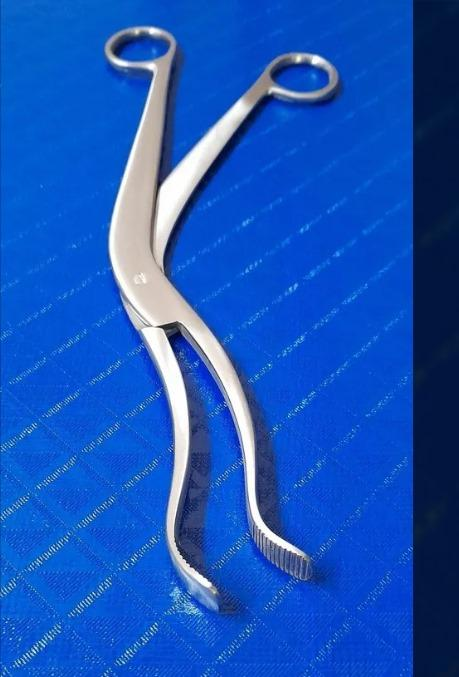Cheatle Forceps: (87, 22, 353, 618)
